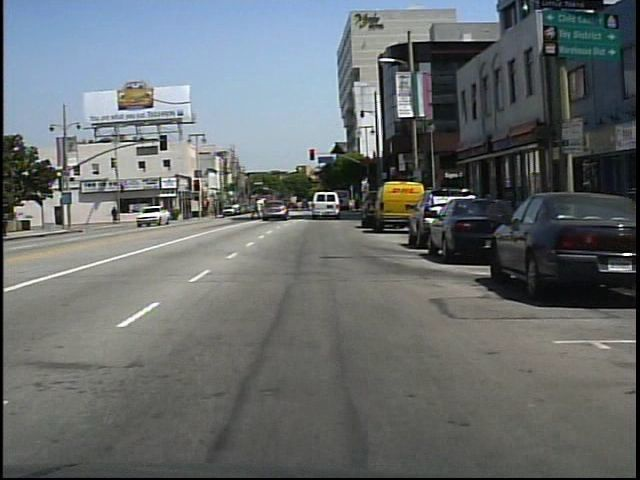person: (247, 193, 264, 222), (110, 206, 120, 225)
